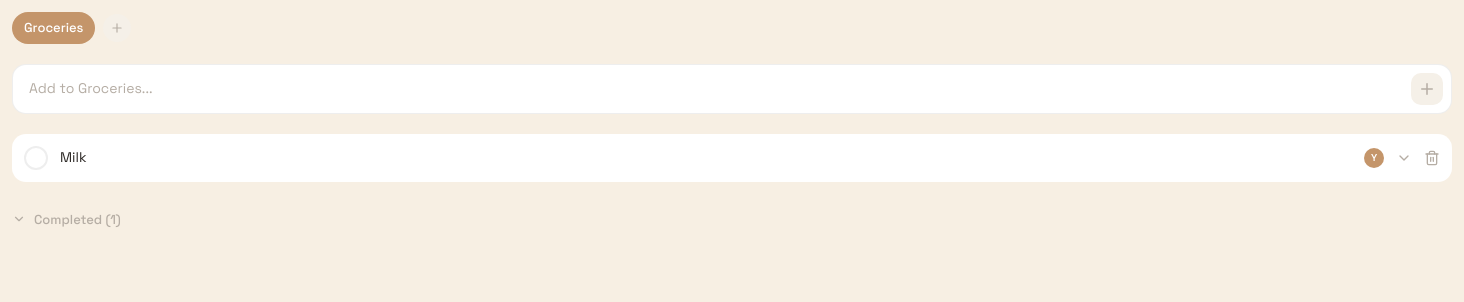
SharedListPage › interaction › shows completed section with toggle
This screenshot has width=1464, height=302.
Click the button with test id "completed-toggle": (72, 219) [12, 202, 1452, 237]
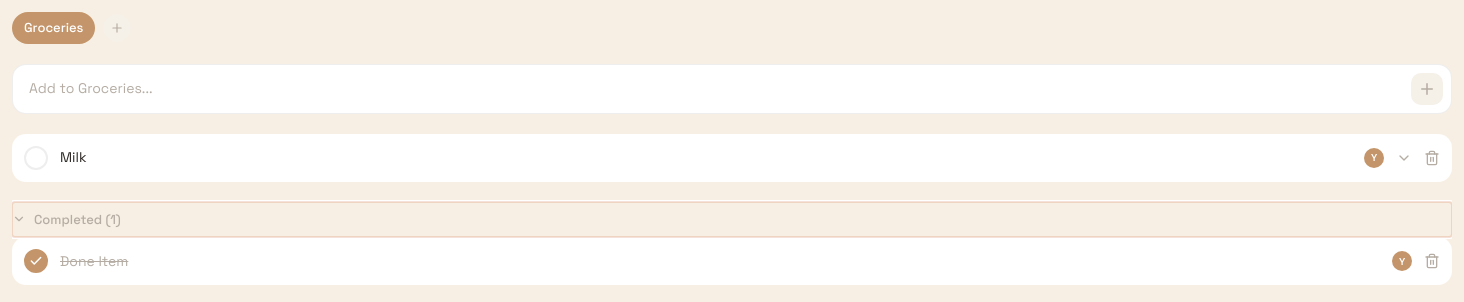
Now the element with test id "list-item-done-1" is shown, box [12, 237, 1452, 285]
